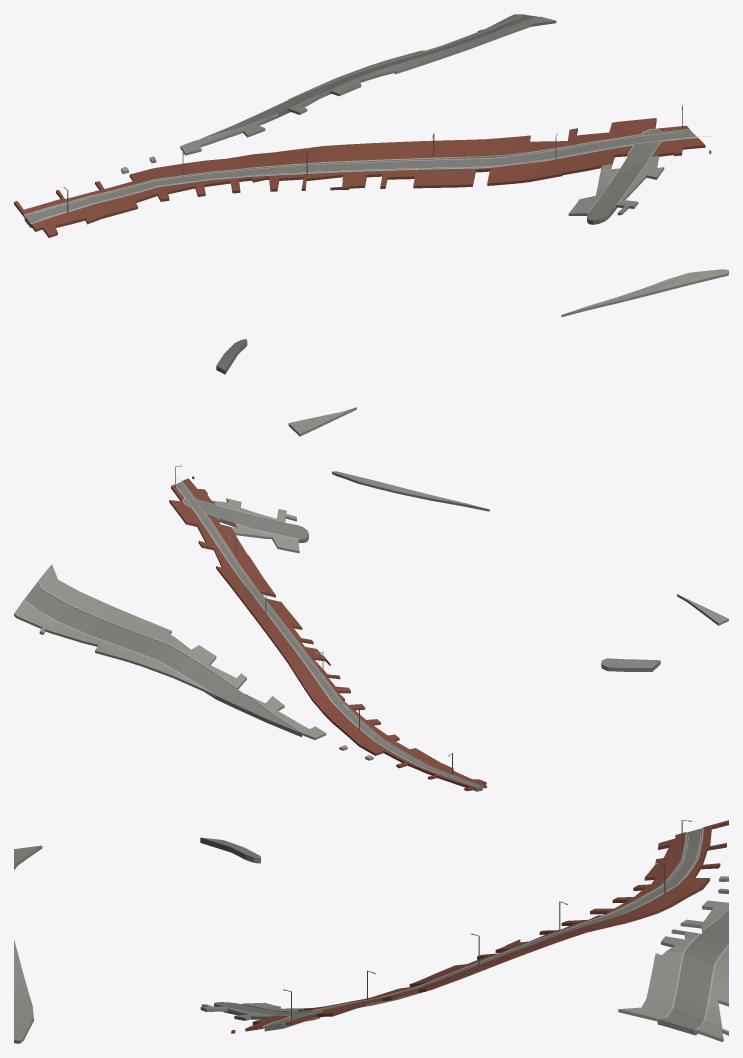
File: 18-218892-118944.b7b29aaf.glb
3 renders of one model, top to bottom at view 1: azimuth 30°, elevation 25°; view 2: azimuth 150°, elevation 25°; view 3: azimuth 270°, elevation 25°, orthographic. The views are drawn at different scales.
Bounding box in the file's own units: 150 × 36.43 × 146.
